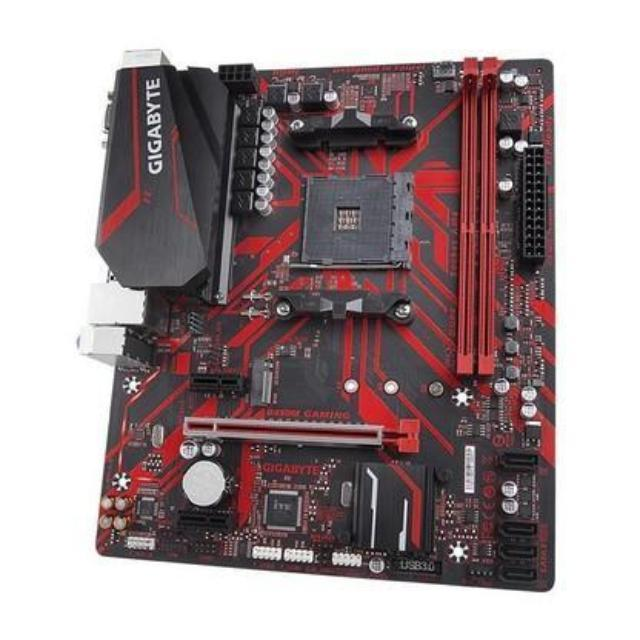Mainboard: (72, 45, 566, 590)
